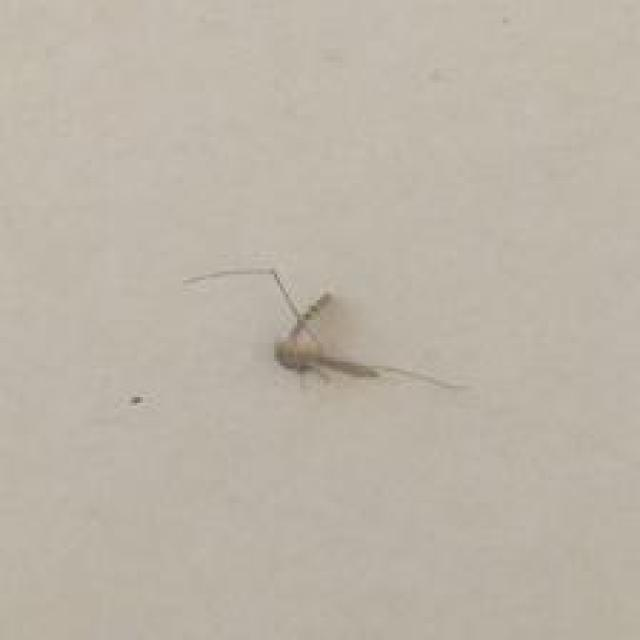Culex: (182, 264, 467, 393)
